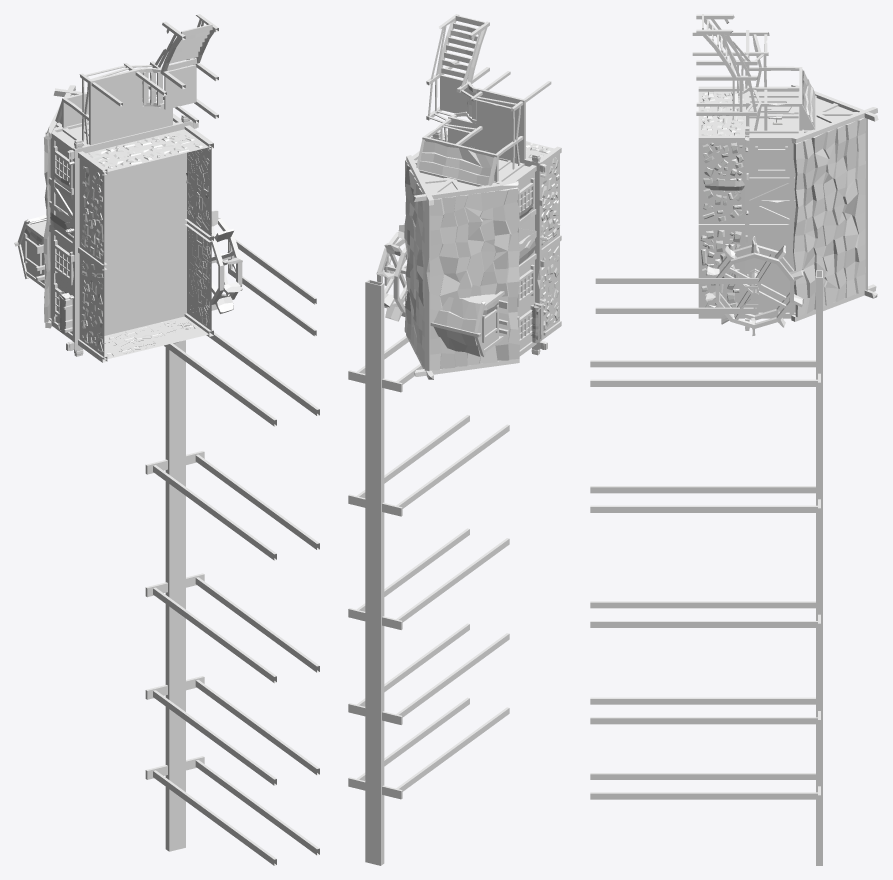
The model's file is House2NewRoof+WhaterWheel.fbx.
3 renders of one model, left to right at view 1: azimuth 30°, elevation 25°; view 2: azimuth 150°, elevation 25°; view 3: azimuth 270°, elevation 25°, orthographic. The views are drawn at different scales.
Parts seen in each view (by area): view 1: House2, WaterWheelCannal, WaterWheel, WaterWheelSupport, House2 Folliage; view 2: House2, WaterWheelCannal, WaterWheel, House2 Folliage; view 3: House2, WaterWheelCannal, WaterWheel, WaterWheelSupport.
Boxes of the visible parts, x1,y1,x2,y2 form: House2: (14, 14, 218, 362); WaterWheelCannal: (145, 332, 319, 865); WaterWheel: (211, 209, 242, 313); WaterWheelSupport: (227, 239, 316, 336); House2 Folliage: (24, 171, 208, 332); House2: (404, 14, 561, 379); WaterWheelCannal: (348, 279, 509, 865); WaterWheel: (376, 224, 406, 321); House2 Folliage: (483, 202, 542, 342); House2: (692, 14, 878, 330); WaterWheelCannal: (590, 270, 822, 865); WaterWheel: (705, 236, 803, 335); WaterWheelSupport: (595, 268, 759, 313).
Bounding box in the file's own units: 988 × 4677 × 1486.
